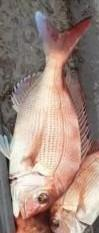fish: (0, 11, 89, 217)
